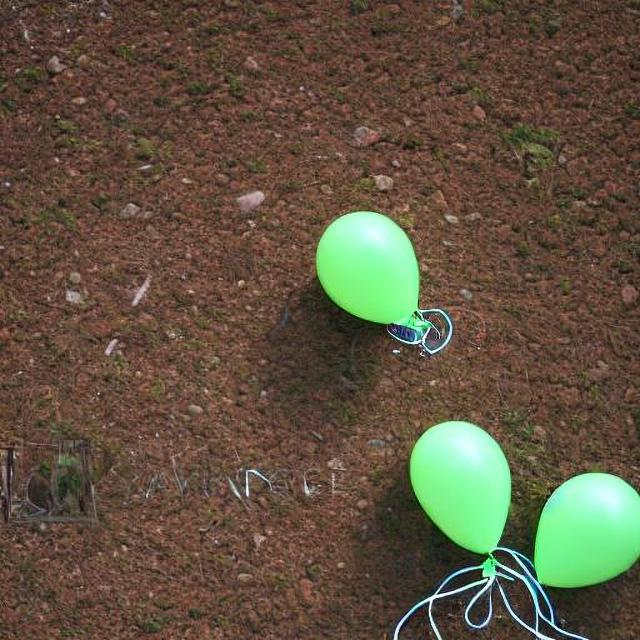balloon: (405, 418, 512, 556), (310, 208, 426, 332), (527, 468, 637, 590)
